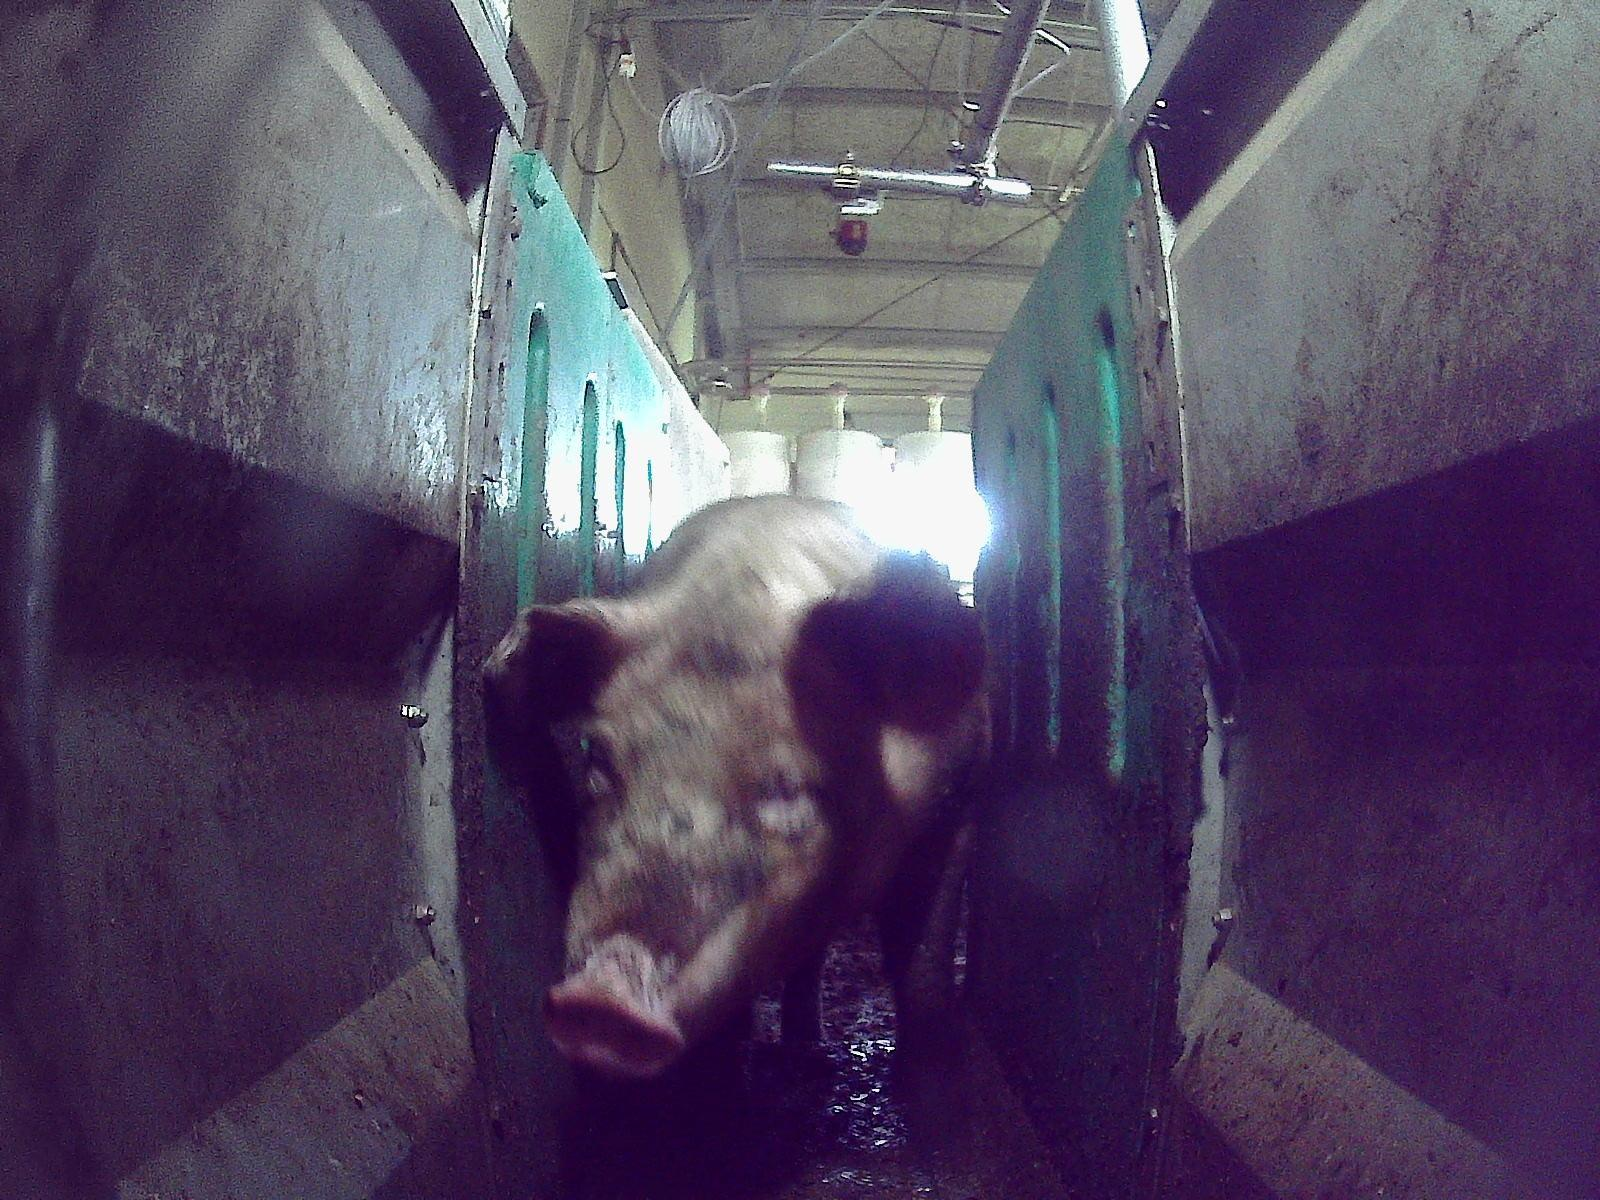Face: (542, 622, 849, 1078)
